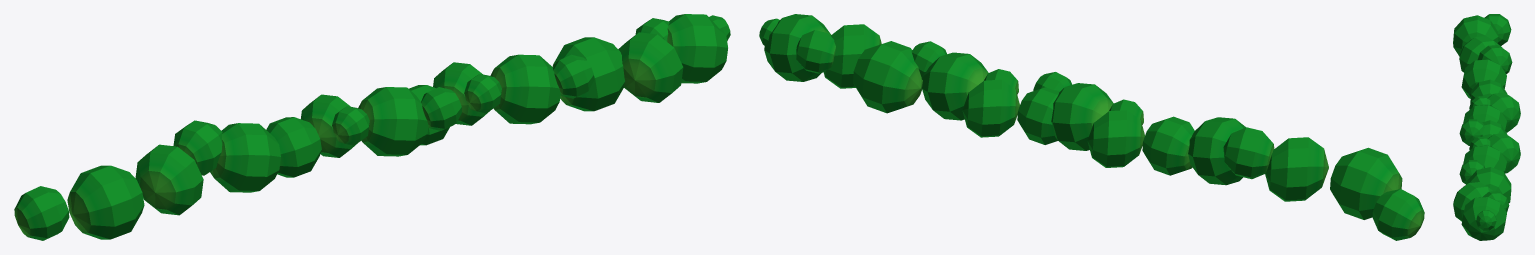
The model's file is bushes_3_2_world_ap_0_lev1.glb.
3 renders of one model, left to right at view 1: azimuth 30°, elevation 25°; view 2: azimuth 150°, elevation 25°; view 3: azimuth 270°, elevation 25°, orthographic. The views are drawn at different scales.
Visible parts, largest first — view 1: bushes_3_2_world_ap_0_lev1; view 2: bushes_3_2_world_ap_0_lev1; view 3: bushes_3_2_world_ap_0_lev1.
Boxes of the visible parts, x1,y1,x2,y2 form: bushes_3_2_world_ap_0_lev1: (14,14,730,240); bushes_3_2_world_ap_0_lev1: (759,14,1424,240); bushes_3_2_world_ap_0_lev1: (1453,14,1520,240).
Size of the model in its own units: 5.37 by 0.5523 by 0.712.
Materials: 1 (1 with a texture image).
